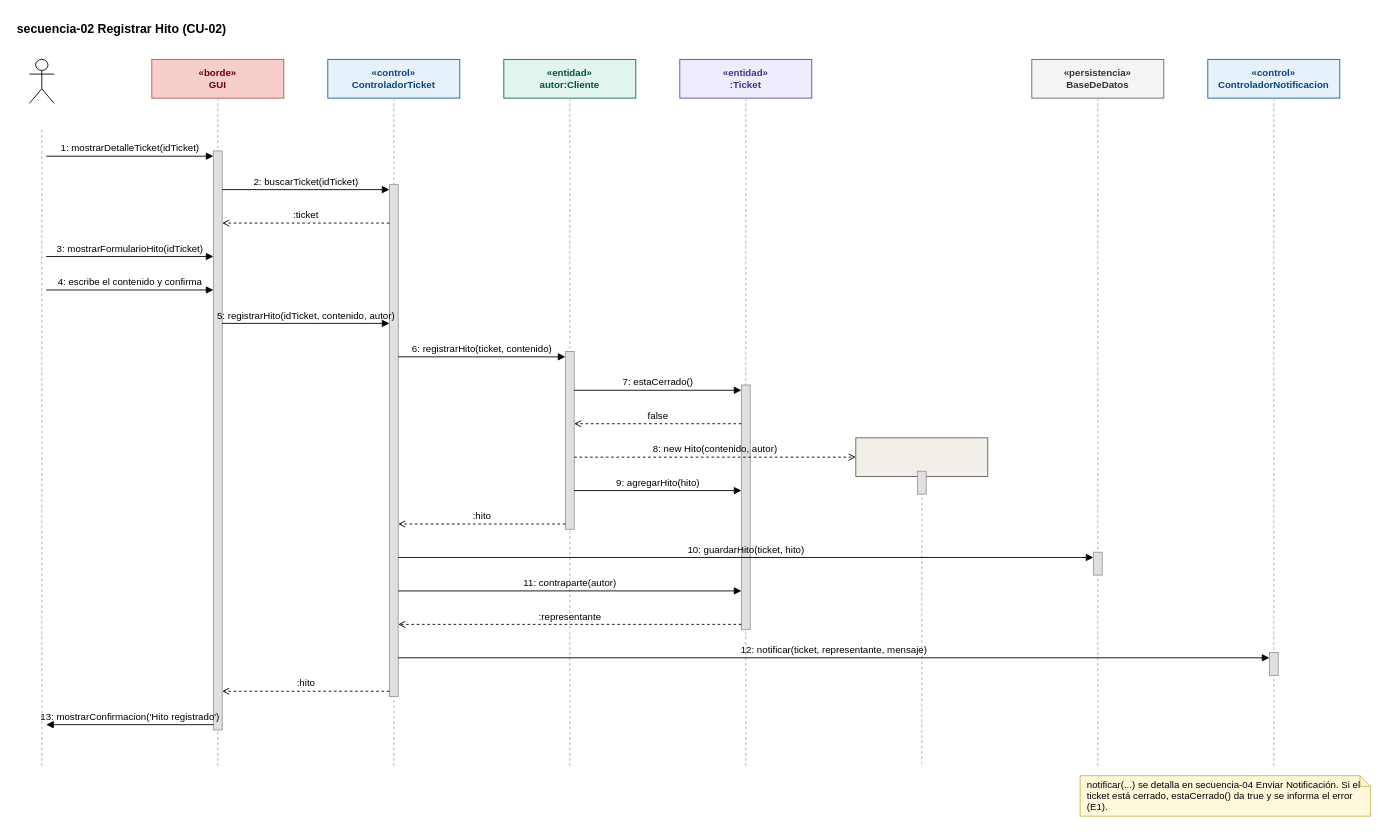
Some shapes in this 1386 by 832 pixel diagram are drawn without their labels. Here are the shapes that lost their labels. From the top down, the centre of each, then its label:
At point 41,81: "Cliente".
At point 921,457: "«entidad» :Hito".
